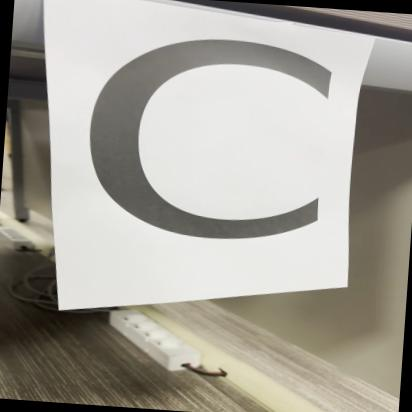seat: (47, 0, 358, 277)
